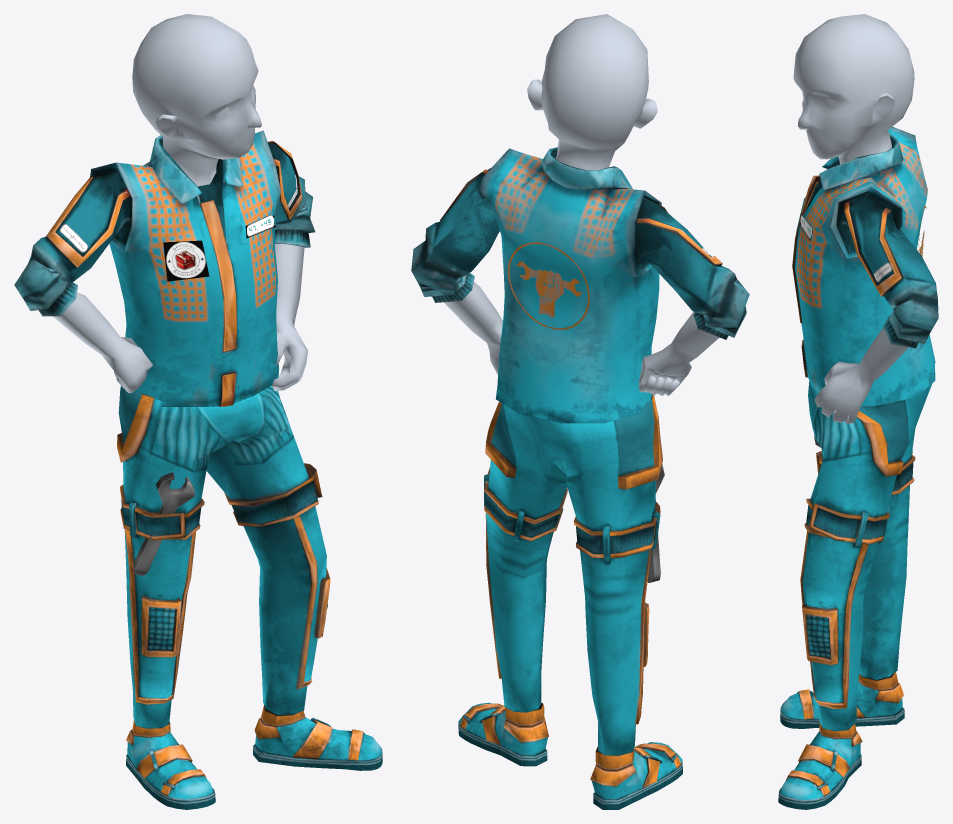
The model's file is M_mechanic_pose.gltf.
3 views of the same model, side by side, from view 1: azimuth 30°, elevation 25°; view 2: azimuth 150°, elevation 25°; view 3: azimuth 270°, elevation 25° (orthographic). The views are drawn at different scales.
Parts seen in each view (by area): view 1: M_mechanic_upper, M_mechanic_lower, M_mechanic_head, M_mechanic_feet; view 2: M_mechanic_upper, M_mechanic_lower, M_mechanic_head, M_mechanic_feet; view 3: M_mechanic_upper, M_mechanic_lower, M_mechanic_head, M_mechanic_feet.
Part boxes in pixels (<box>): M_mechanic_upper: <box>14,130,315,406</box>; M_mechanic_lower: <box>117,385,330,728</box>; M_mechanic_head: <box>132,14,261,186</box>; M_mechanic_feet: <box>126,705,382,809</box>; M_mechanic_upper: <box>411,147,749,423</box>; M_mechanic_lower: <box>484,394,664,755</box>; M_mechanic_head: <box>527,14,657,170</box>; M_mechanic_feet: <box>458,702,682,809</box>; M_mechanic_upper: <box>792,126,938,424</box>; M_mechanic_lower: <box>800,381,931,731</box>; M_mechanic_head: <box>793,14,914,164</box>; M_mechanic_feet: <box>778,672,904,809</box>.
Bounding box in the file's own units: 1.61 × 3.65 × 0.7402.
Materials: 3 (2 with a texture image).
